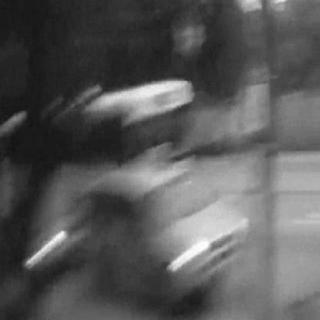other: (24, 230, 74, 274), (154, 235, 214, 271)
